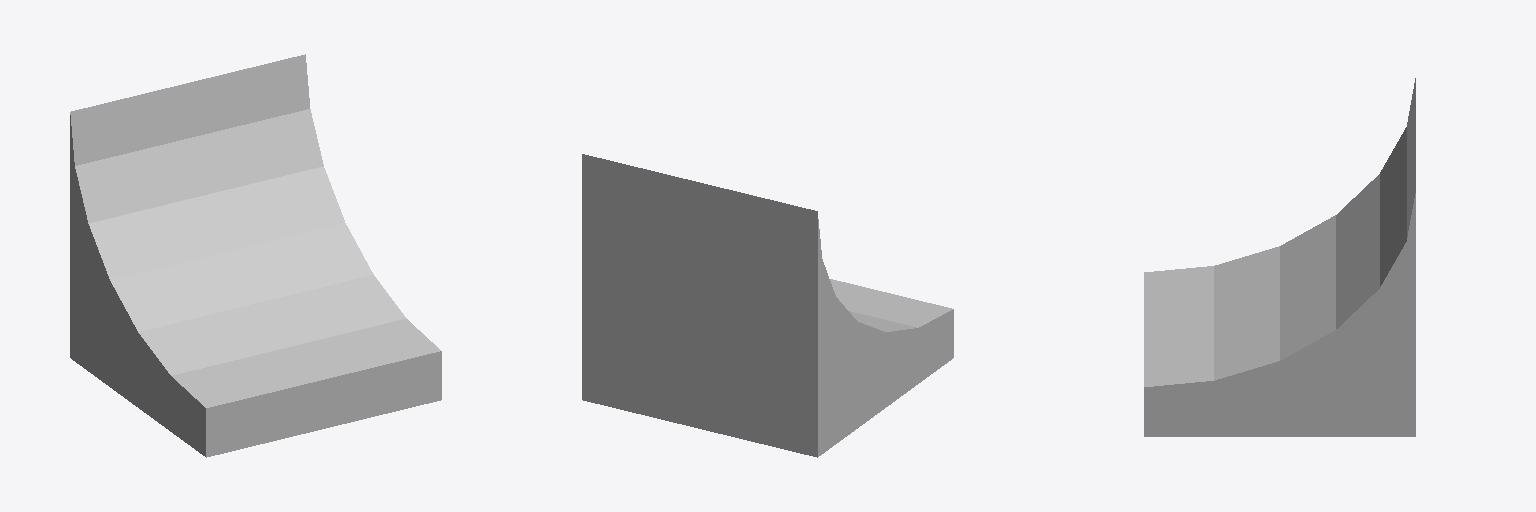
File: halfpipe.obj
The picture shows the model from 3 angles: view 1: azimuth 30°, elevation 25°; view 2: azimuth 150°, elevation 25°; view 3: azimuth 270°, elevation 25°; orthographic projection.
Parts seen in each view (by area): view 1: half_pipe; view 2: half_pipe; view 3: half_pipe.
Part boxes in pixels (x1,y1,x2,y2): half_pipe: (70,54,441,457); half_pipe: (582,154,953,457); half_pipe: (1144,78,1415,436).
Size of the model in its own units: 2 by 2 by 2.